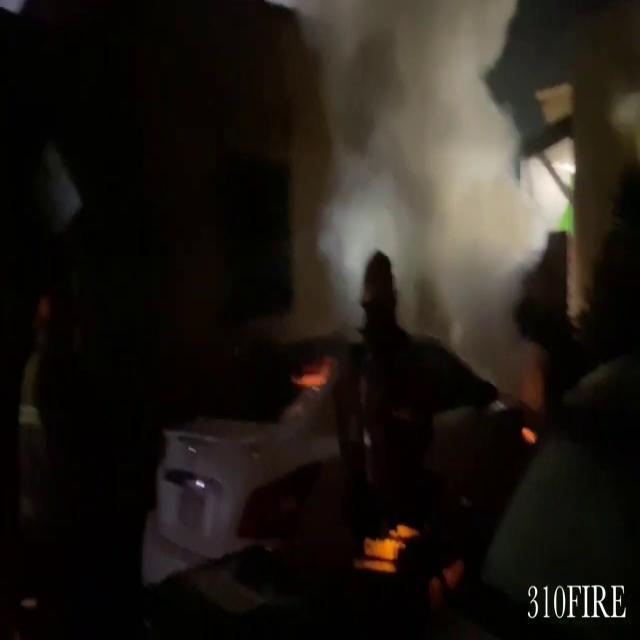Smoke: (278, 0, 546, 360)
